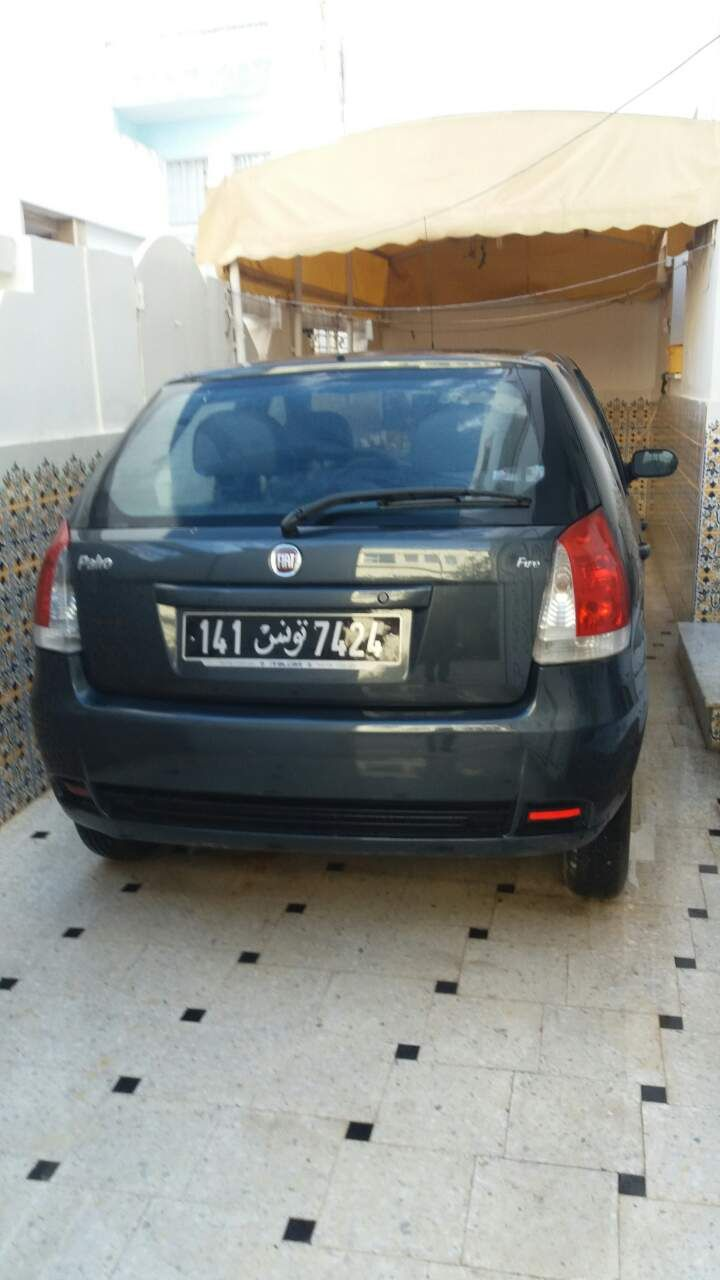LP: (181, 609, 401, 669)
